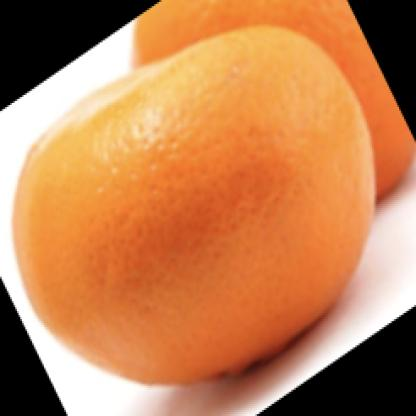fresh: (16, 28, 378, 378)
